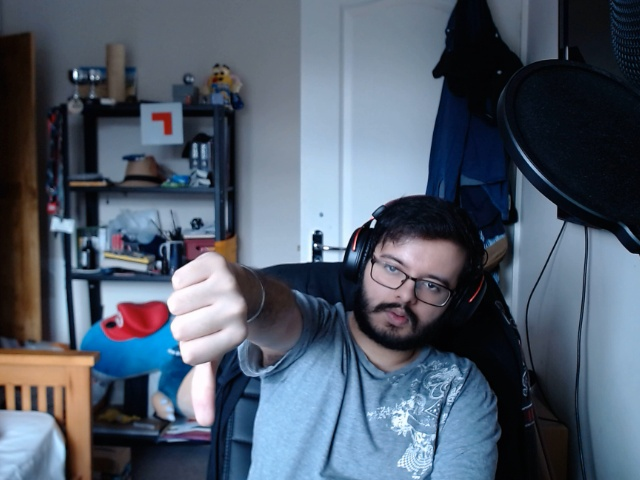Thumbs down: (166, 236, 266, 434)
